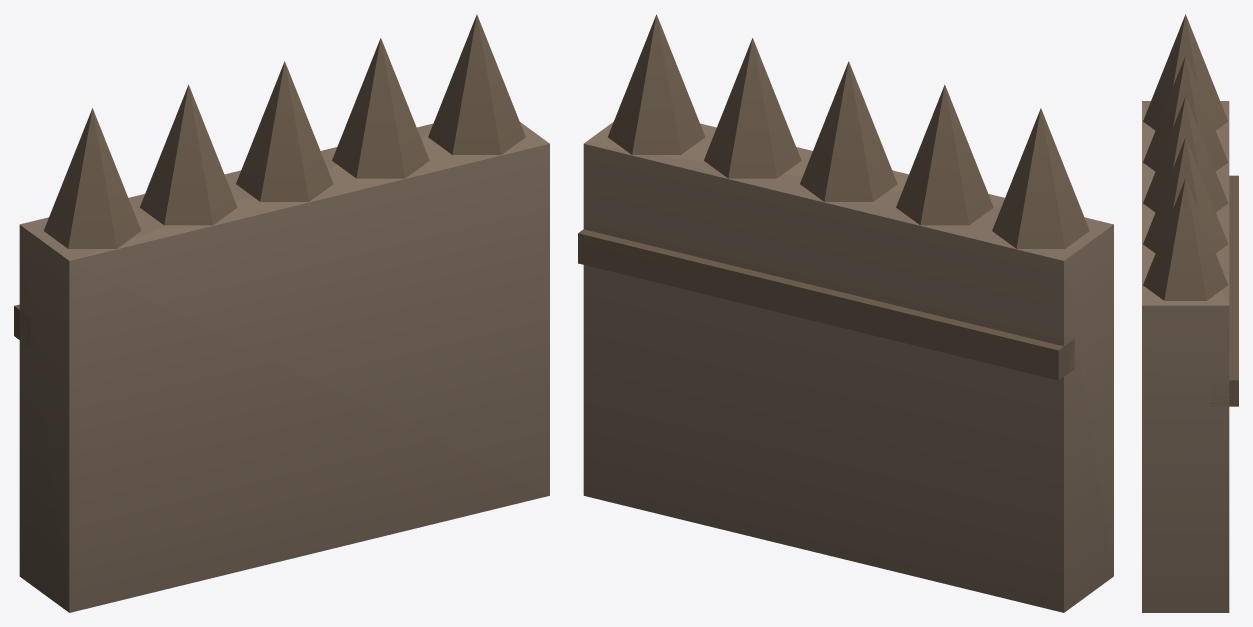
Rendered from palisade.glb.
3 views of the same model, side by side, from view 1: azimuth 30°, elevation 25°; view 2: azimuth 150°, elevation 25°; view 3: azimuth 270°, elevation 25° (orthographic). The views are drawn at different scales.
Parts seen in each view (by area): view 1: palisade; view 2: palisade; view 3: palisade.
Part boxes in pixels (x1,y1,x2,y2): palisade: [14, 14, 549, 612]; palisade: [578, 14, 1113, 612]; palisade: [1142, 14, 1238, 612].
Bounding box in the file's own units: 1 × 0.945 × 0.2.
